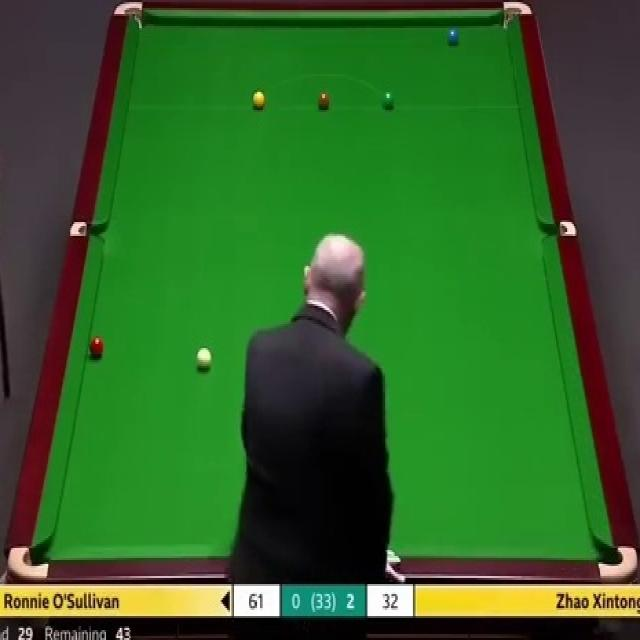blue-ball: (446, 27, 459, 44)
brown-ball: (316, 88, 331, 110)
green-ball: (380, 90, 395, 110)
red-ball: (88, 336, 105, 358)
white-ball: (196, 345, 213, 372)
yellow-ball: (252, 88, 265, 109)
